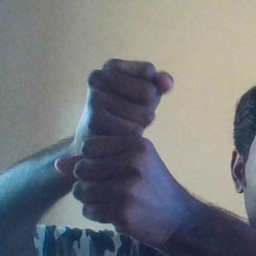G: (55, 49, 179, 230)
